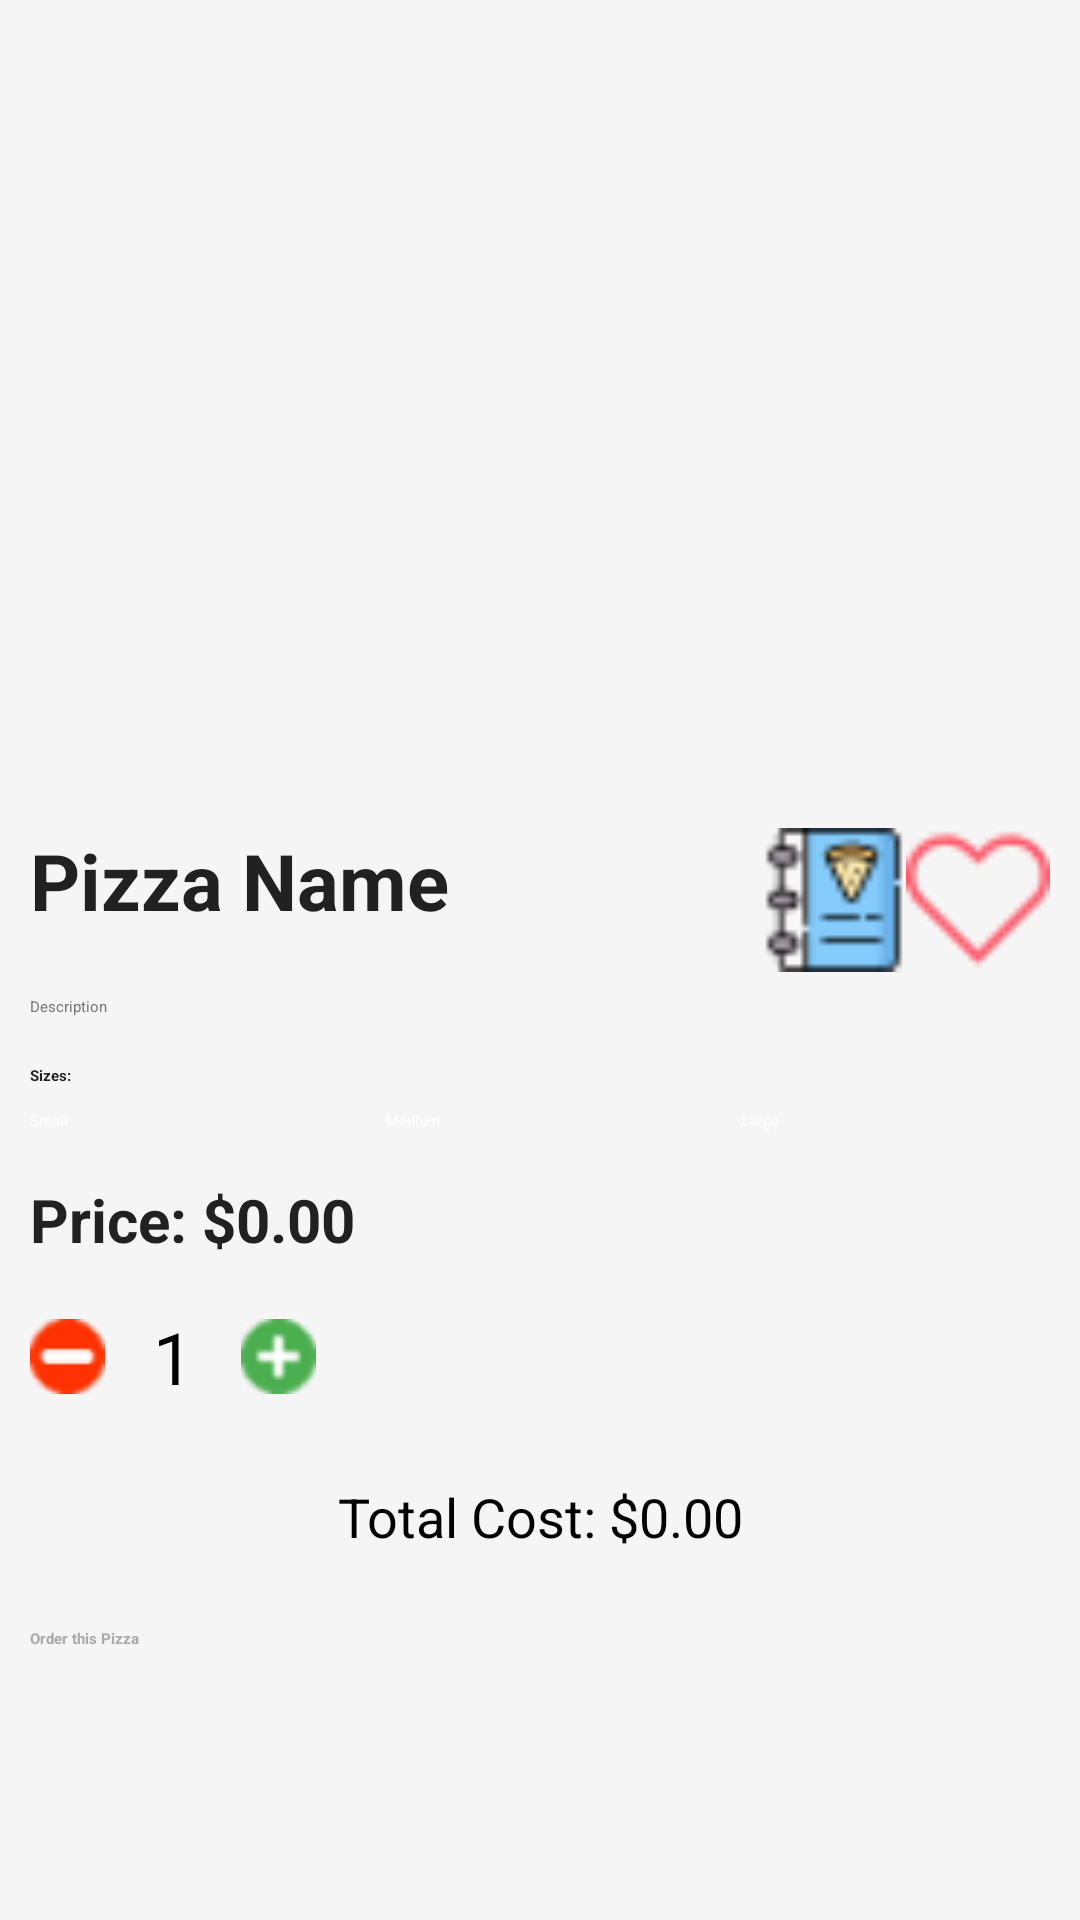

Point at icon controls on the screen. Image size 1080*1920, points as (x,y).
heartempty: (978,899)
menu: (834,900)
minus: (67,1356)
plus: (278,1356)
